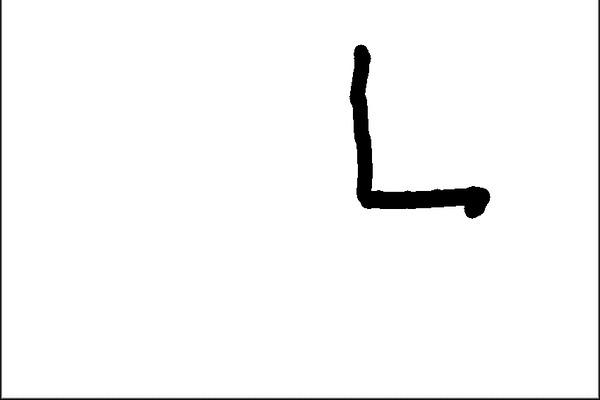L: (340, 36, 495, 222)
